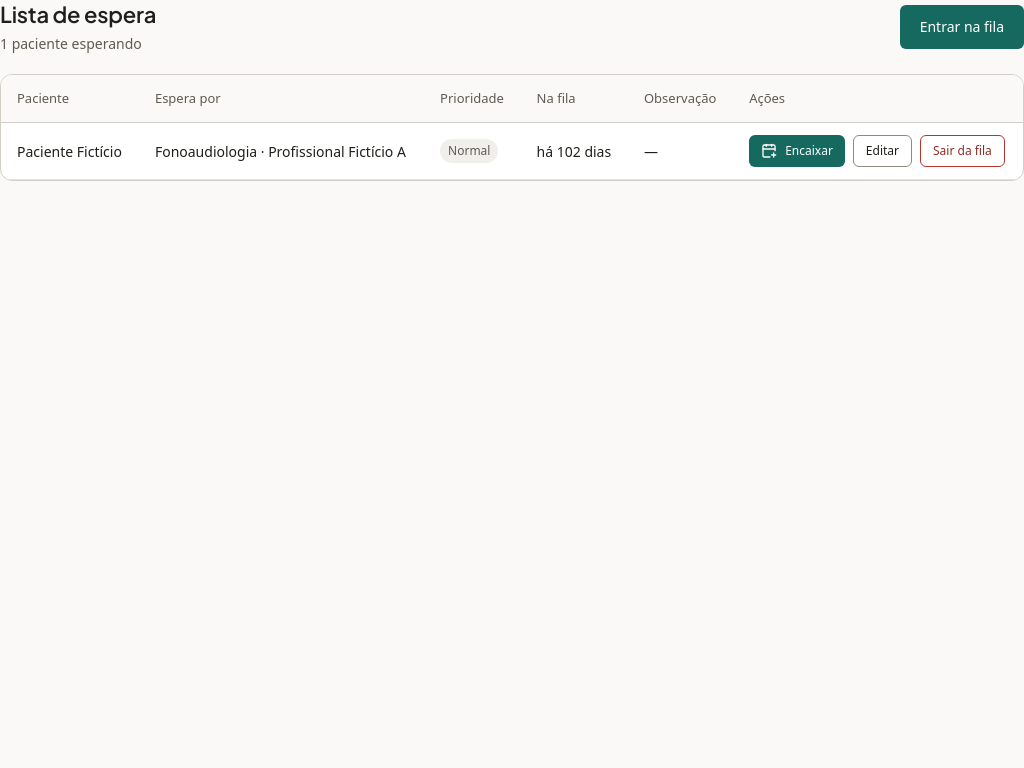
Lista de espera — pré-cadastro pelo card de entrada (pre-cadastro-de-paciente) › deve pré-cadastrar e deixar o paciente selecionado na busca, sem sair da tela
Click the button "Entrar na fila" at (962, 27), box [900,5,1023,49]
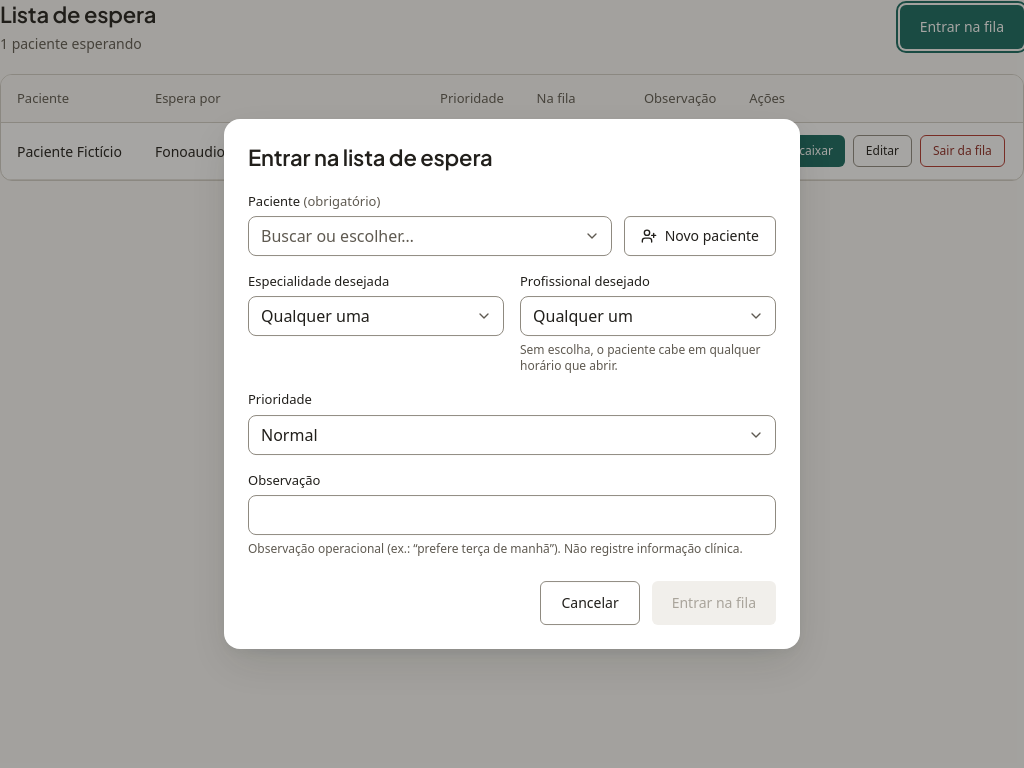
Click the button "Novo paciente" at (700, 236), box [624,216,776,256]
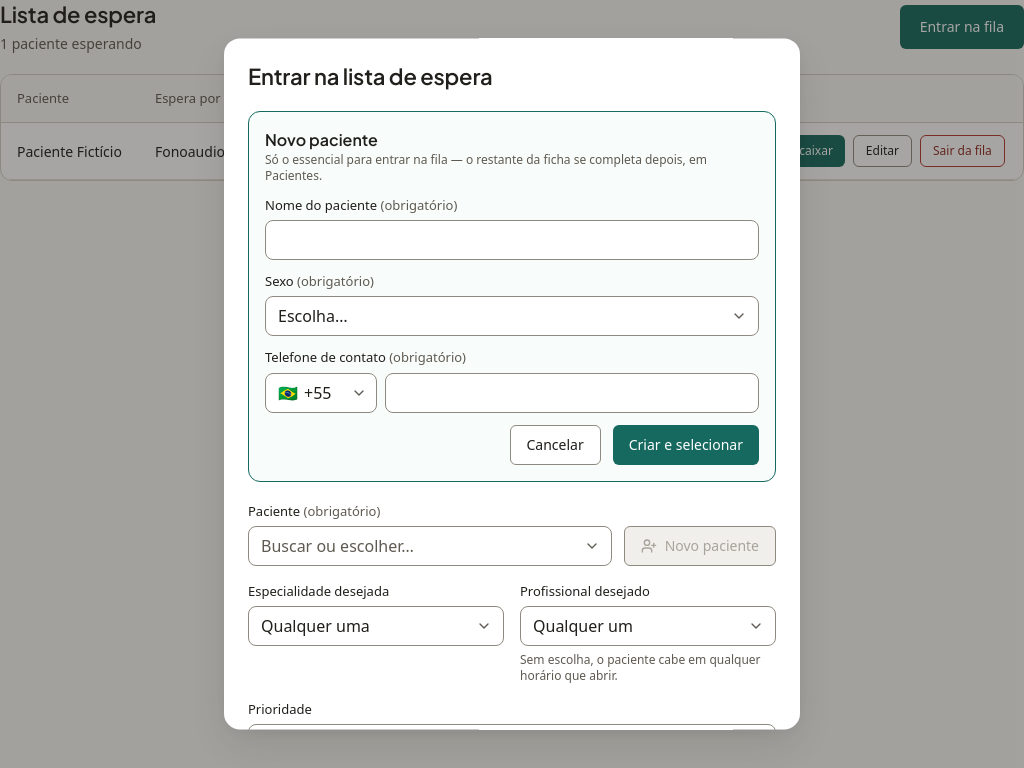
Type "Paciente Fictício do Balcão" into the field labelled "Nome do paciente (obrigatório)" at (512, 241), box [265,221,759,261]
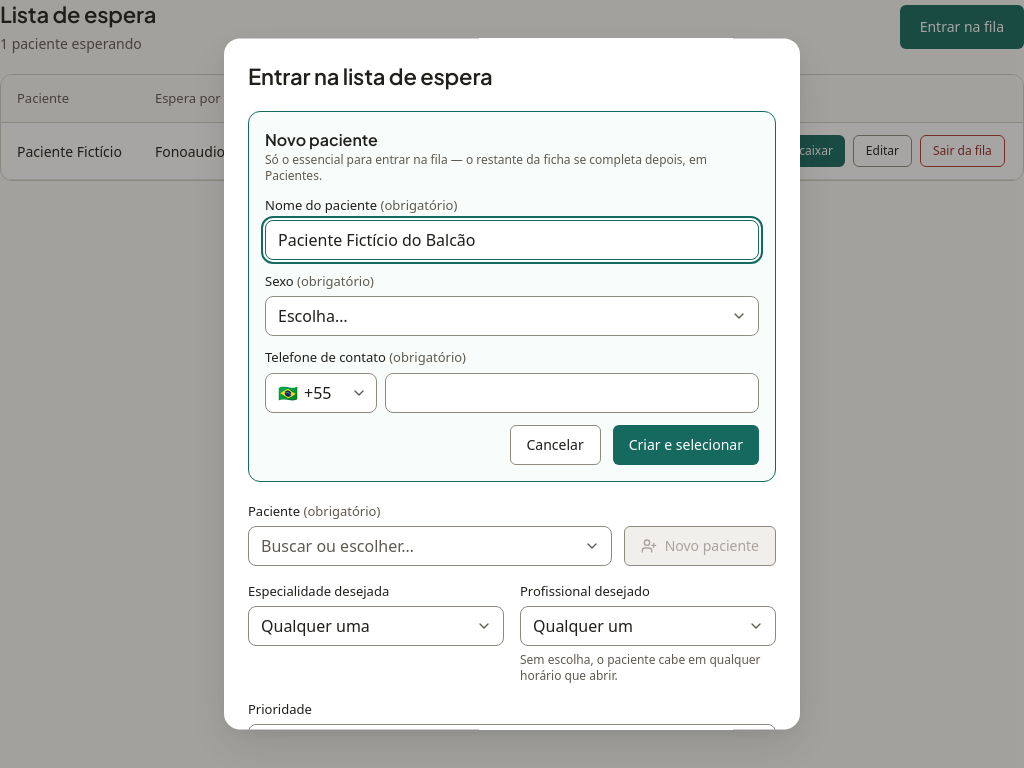
Select "Não informado" in the dropdown labelled "Sexo (obrigatório)" at (512, 317), box [265,297,759,337]
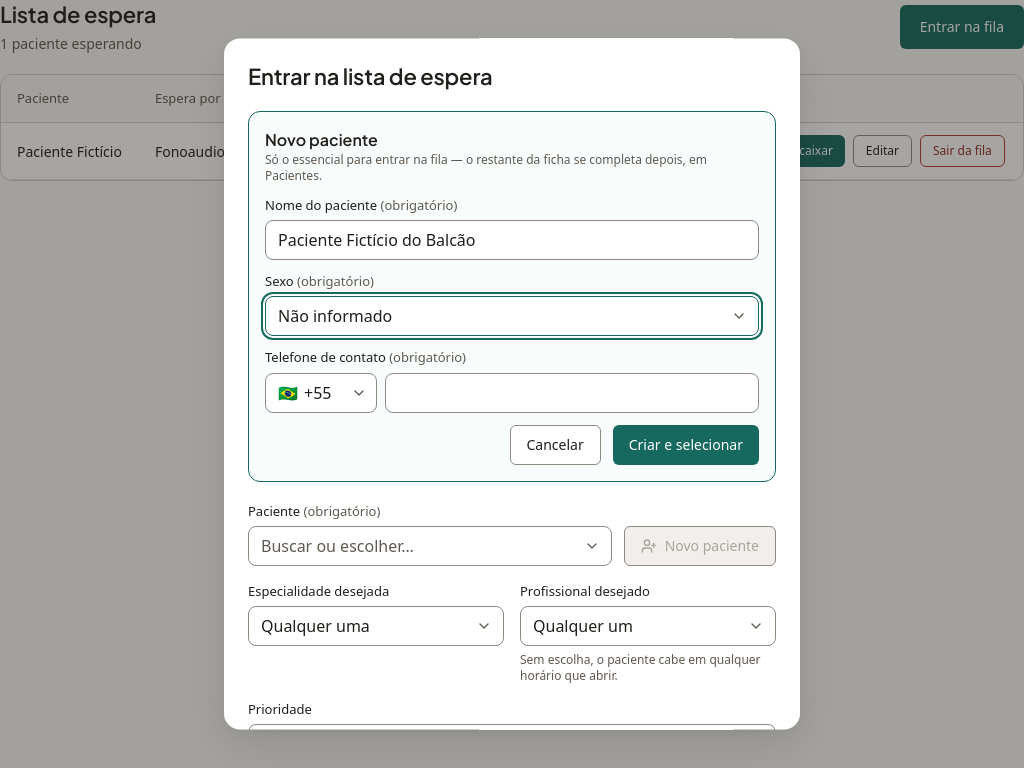
Type "48988887777" into the field labelled "Telefone de contato (obrigatório)" at (572, 393), box [385,373,759,413]
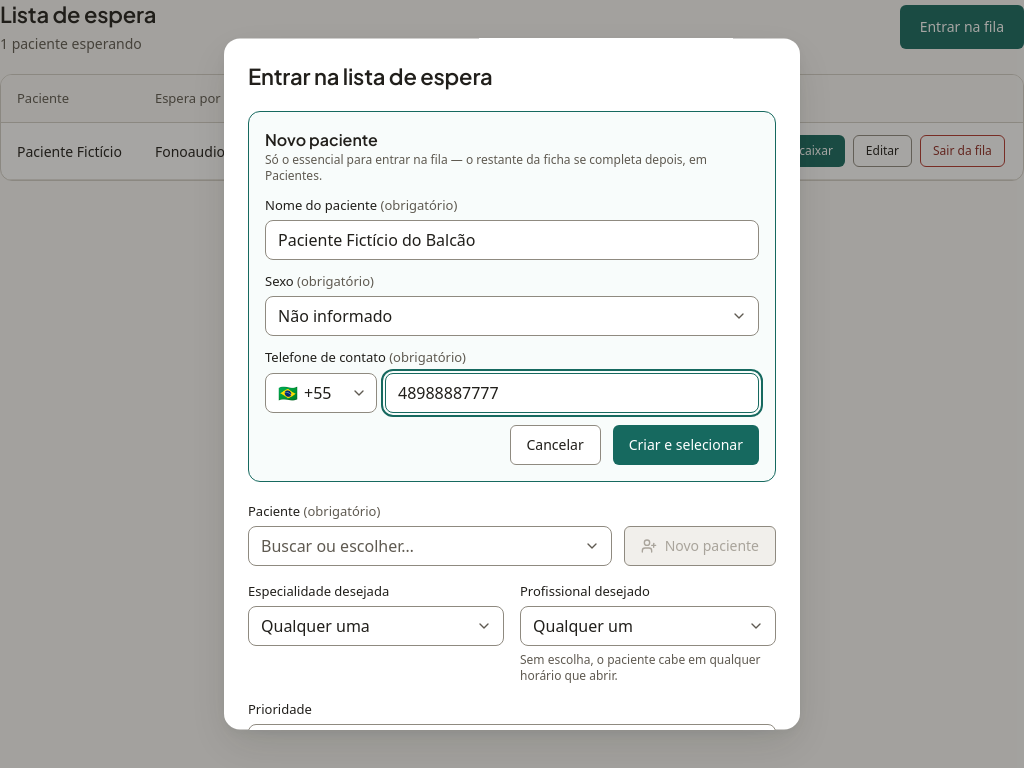
Click the button "Criar e selecionar" at (686, 445), box [613,425,759,465]
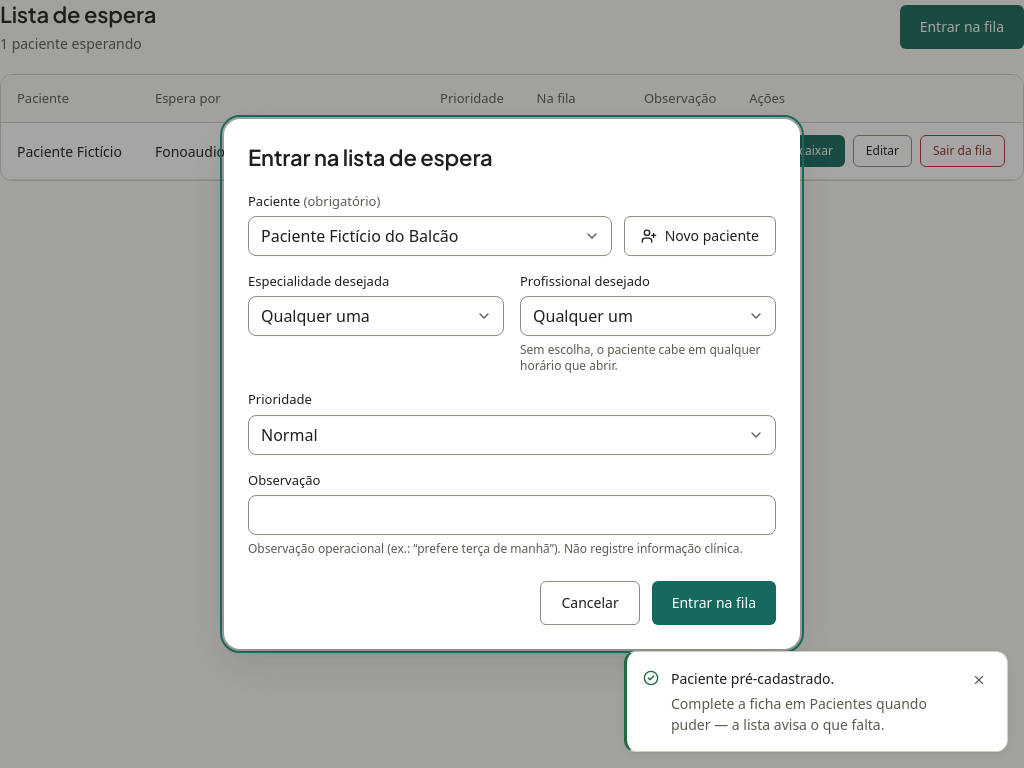
Check: the dropdown labelled "Paciente (obrigatório)" holds "Paciente Fictício do Balcão", box [248,216,612,256]
